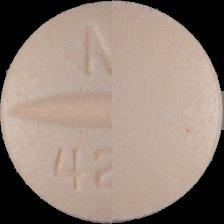54868-5400: (0, 0, 224, 224)
